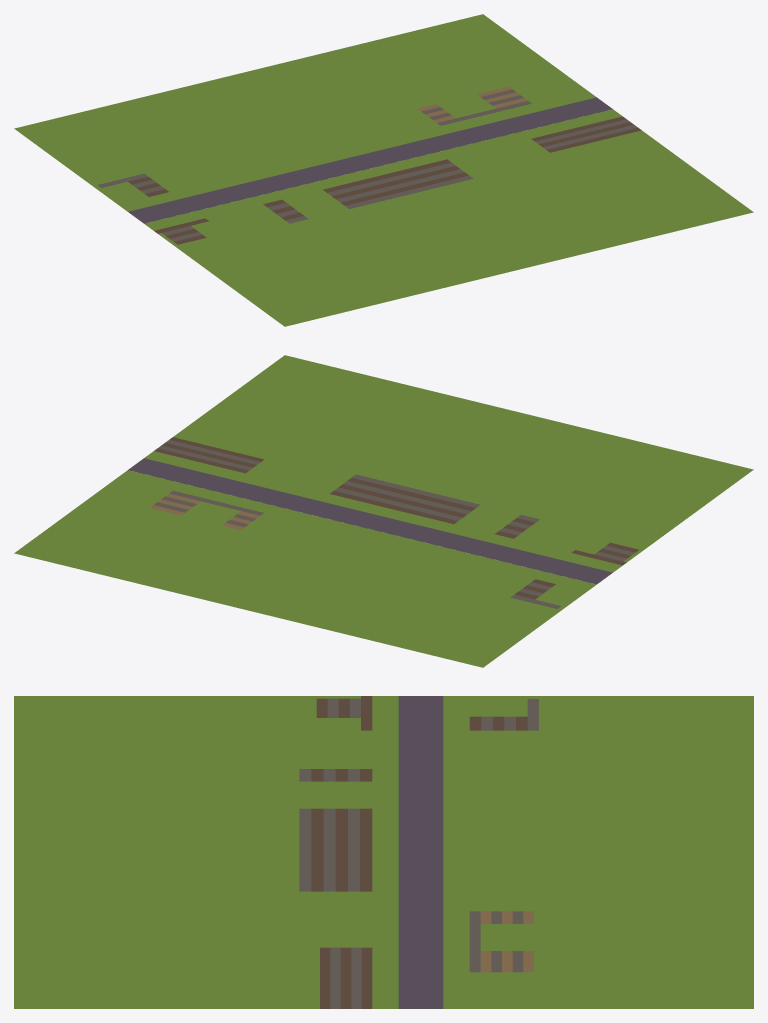
Rendered from cure-10-1.glb.
The picture shows the model from 3 angles, top to bottom: view 1: azimuth 30°, elevation 25°; view 2: azimuth 150°, elevation 25°; view 3: azimuth 270°, elevation 25°; orthographic projection. The views are drawn at different scales.
Visible parts, largest first — view 1: cure-10-1; view 2: cure-10-1; view 3: cure-10-1.
Part boxes in pixels (bbox=[...]): cure-10-1: bbox=[14, 14, 753, 326]; cure-10-1: bbox=[14, 355, 753, 667]; cure-10-1: bbox=[14, 696, 753, 1008].
Size of the model in its own units: 100 by 0.008 by 100.
